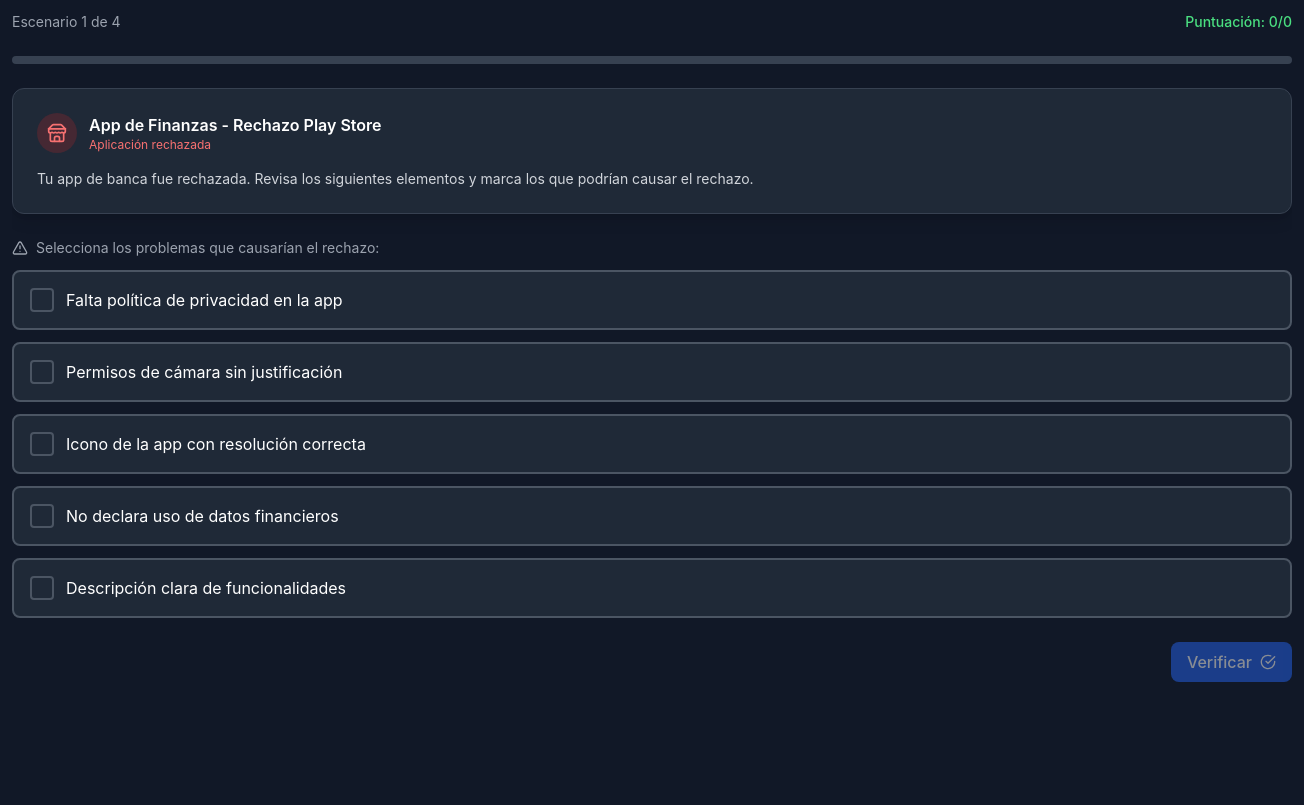
StoreReviewer › verification › should show result after verification
The width and height of the screenshot is (1304, 805).
Click the button "Falta política de privacidad en la app" at (204,300), box [12, 270, 1292, 330]
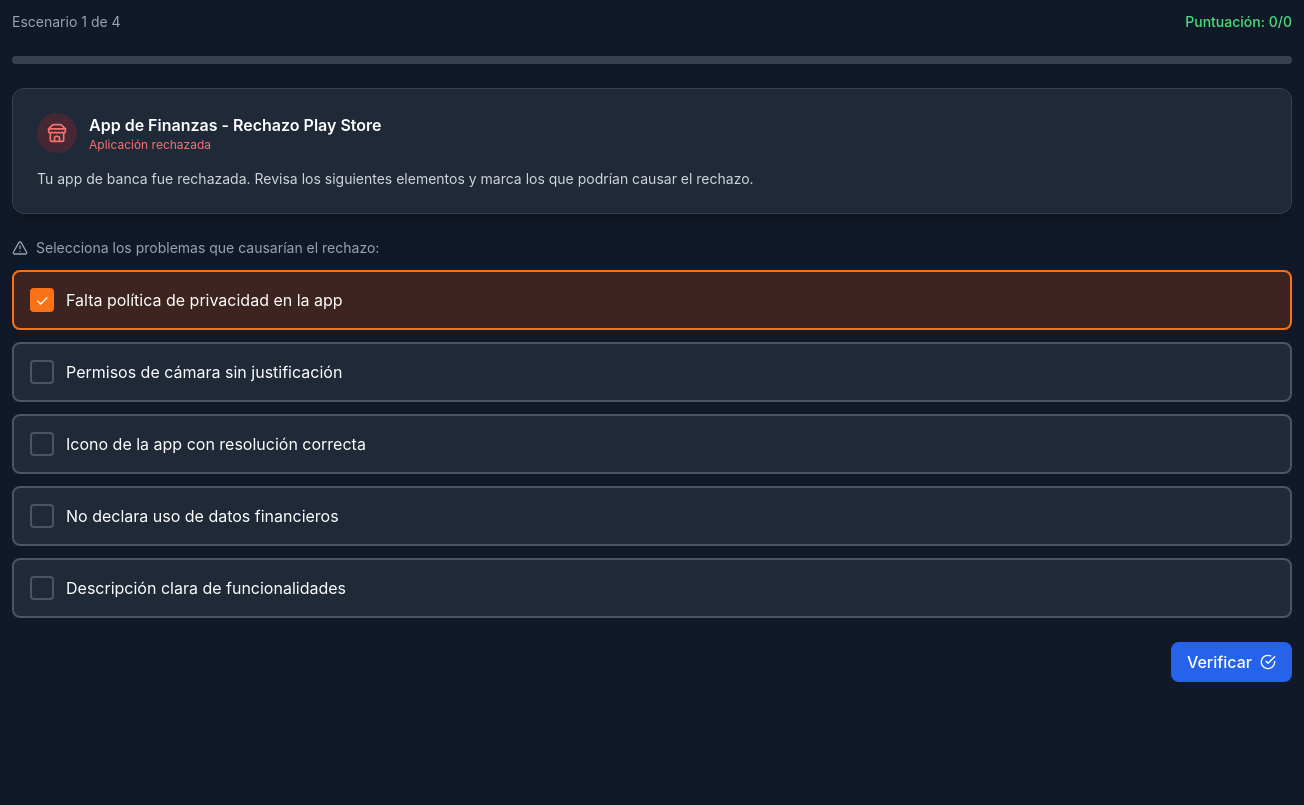
Click the button "Permisos de cámara sin justificación" at (204,372), box [12, 342, 1292, 402]
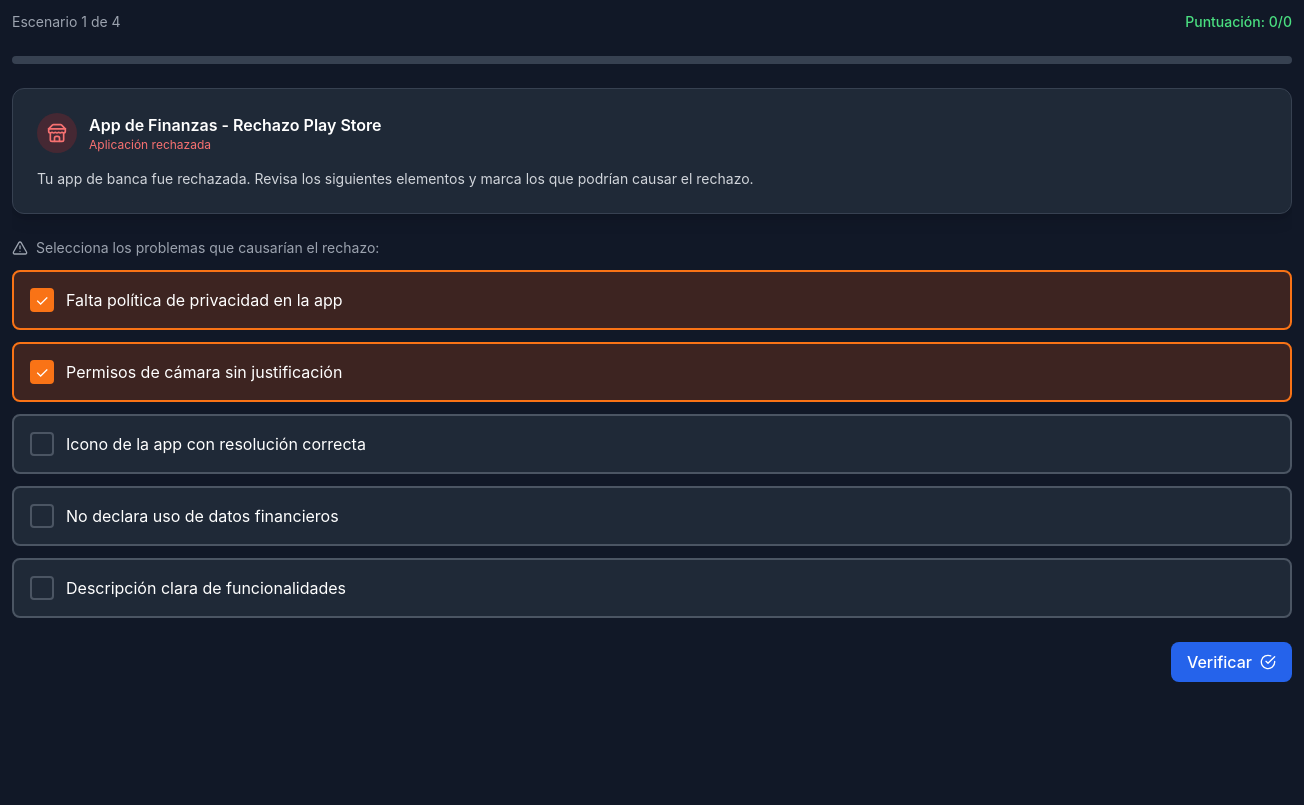
Click the button "No declara uso de datos financieros" at (202,516), box [12, 486, 1292, 546]
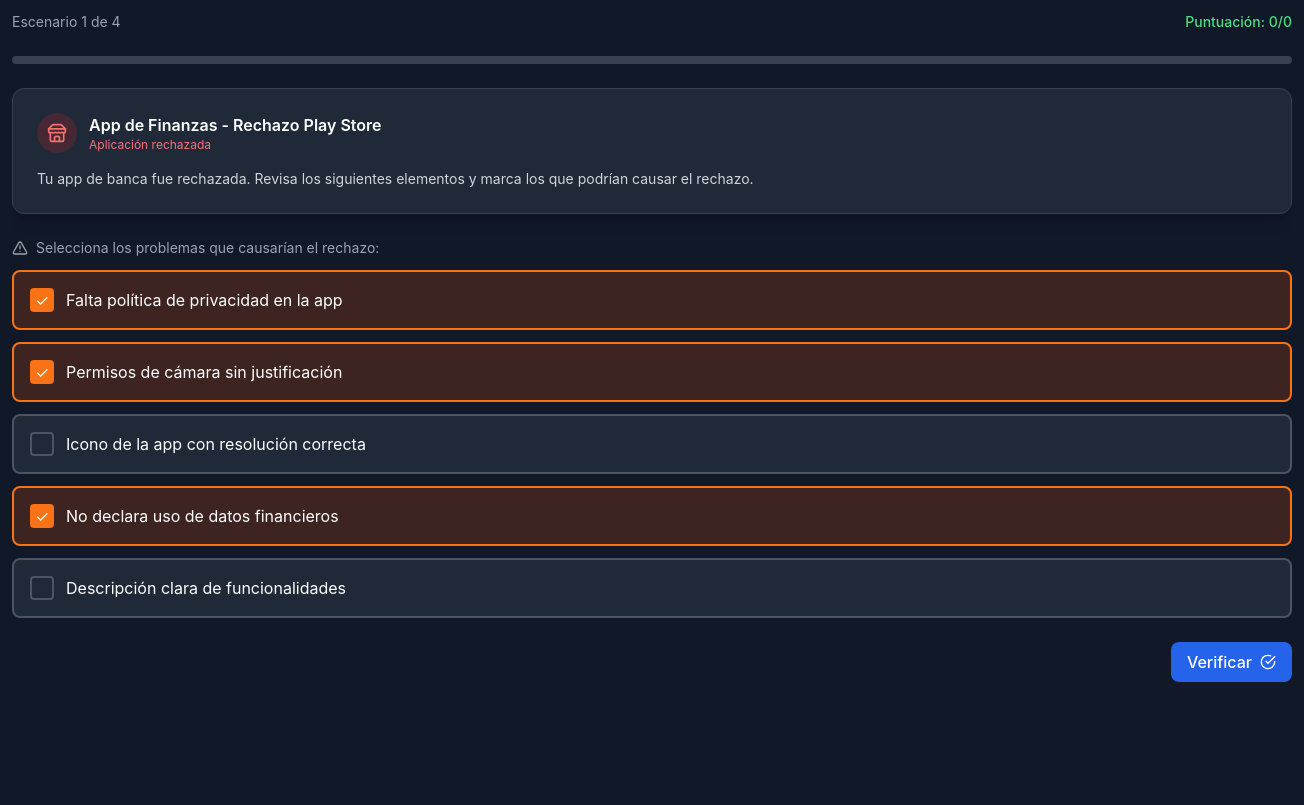
Click the button "Verificar" at (1232,662), box [1171, 642, 1292, 682]
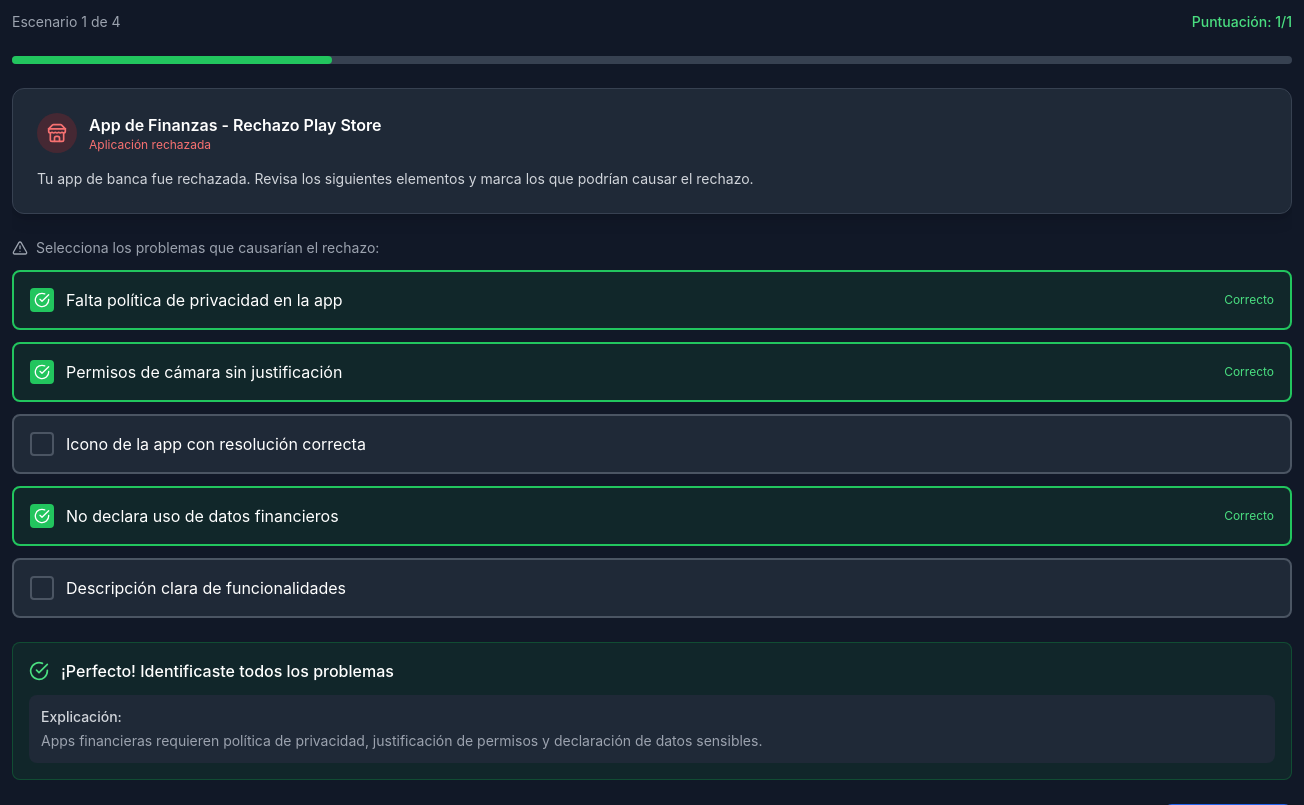
Expected: the text "Explicación:" is shown, [41, 708, 122, 725]
